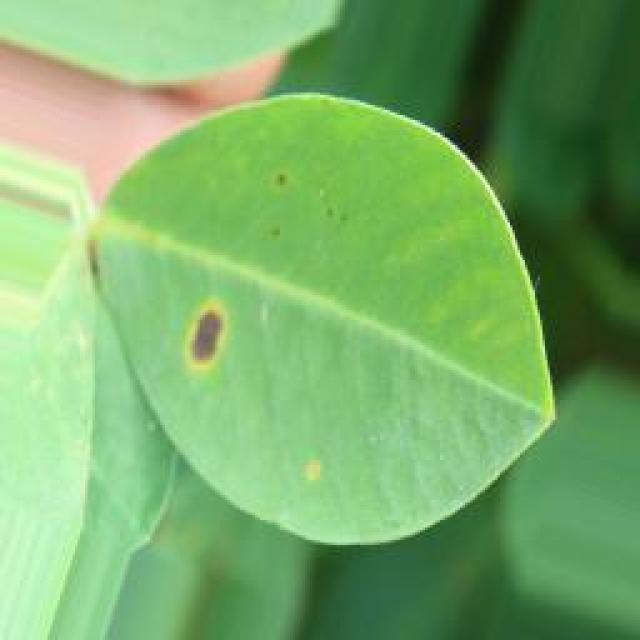Early_leaf_spot: (231, 132, 366, 280), (168, 276, 263, 394), (287, 408, 346, 498)
